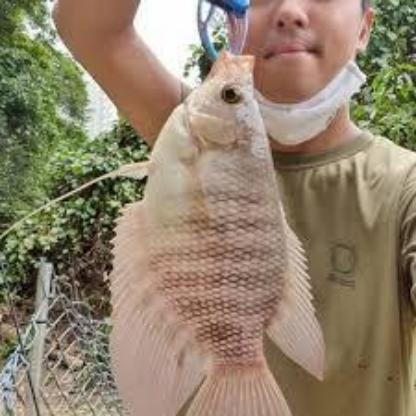gurame: (110, 55, 330, 415)
